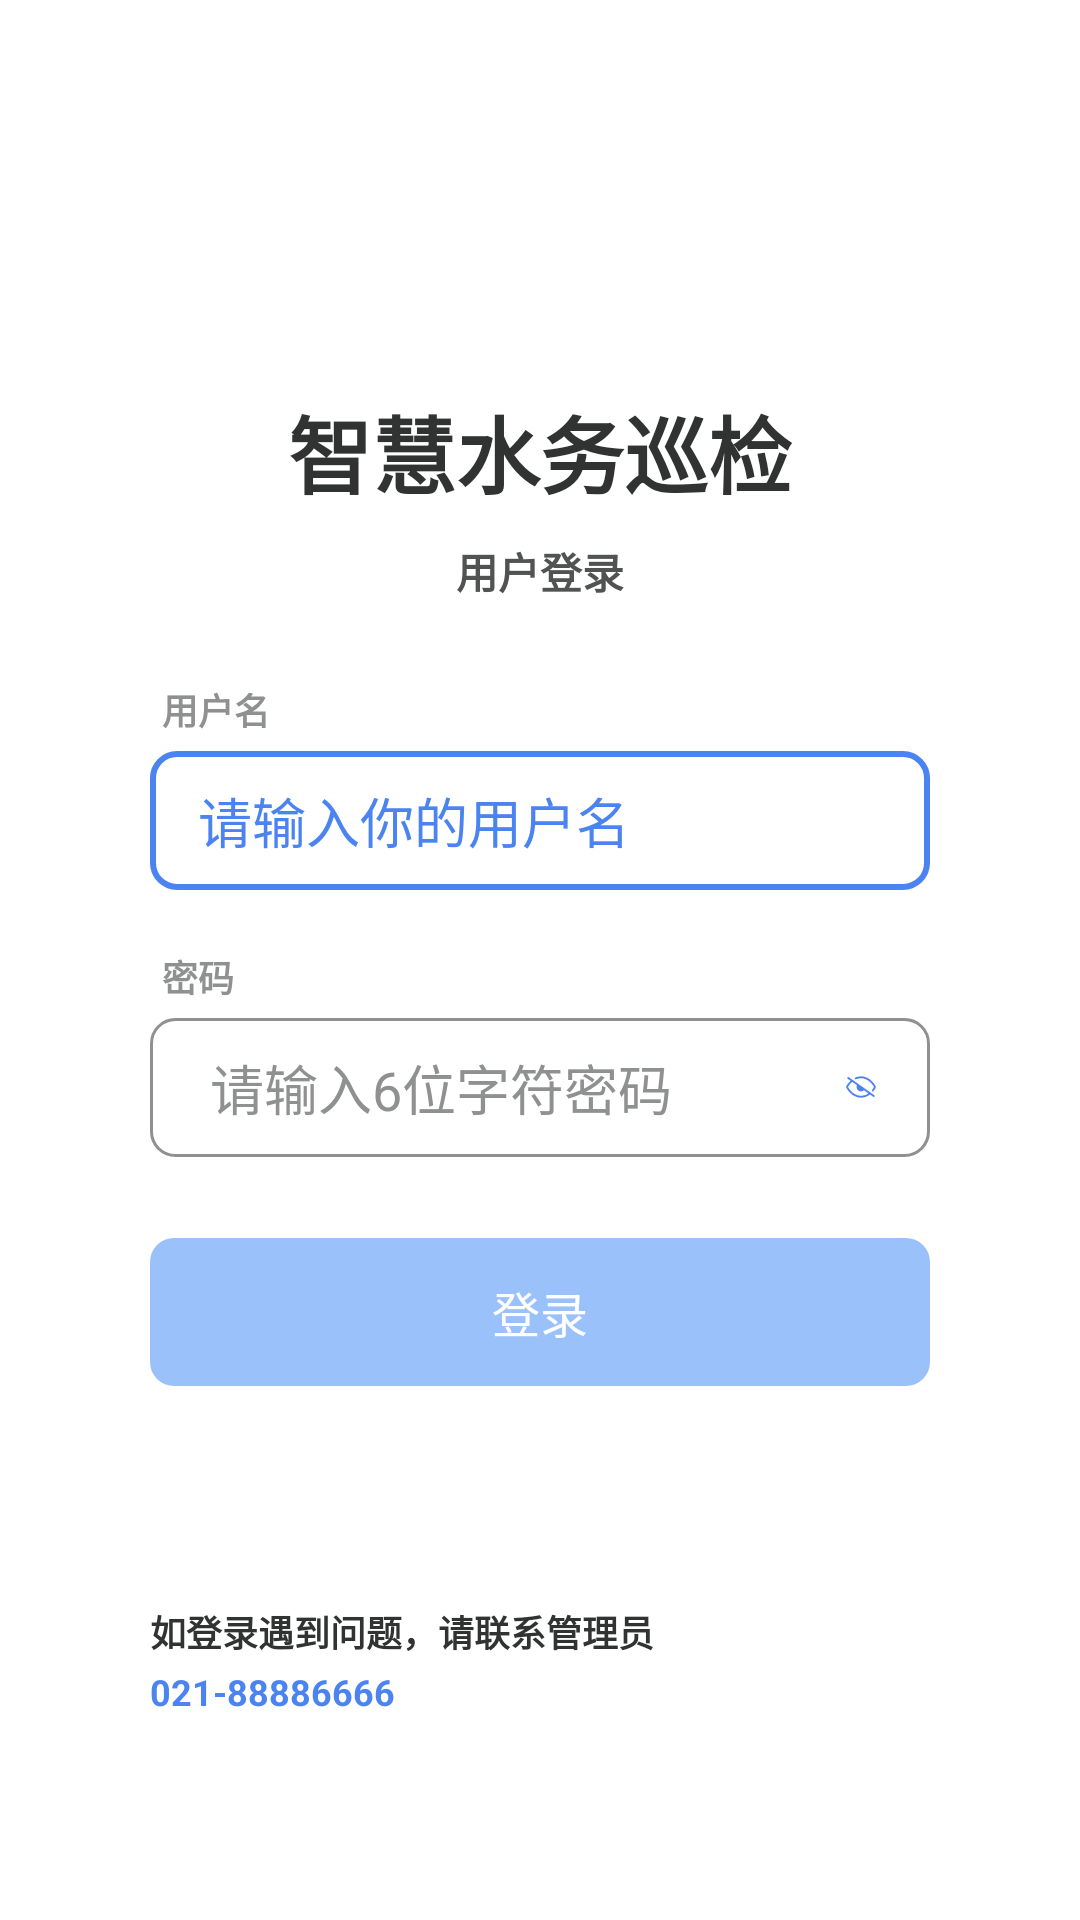

Point at icon controls on the screen. Image size 1080px x 1920px, points as (x=x, y=y).
eye close: (x=861, y=1087)
